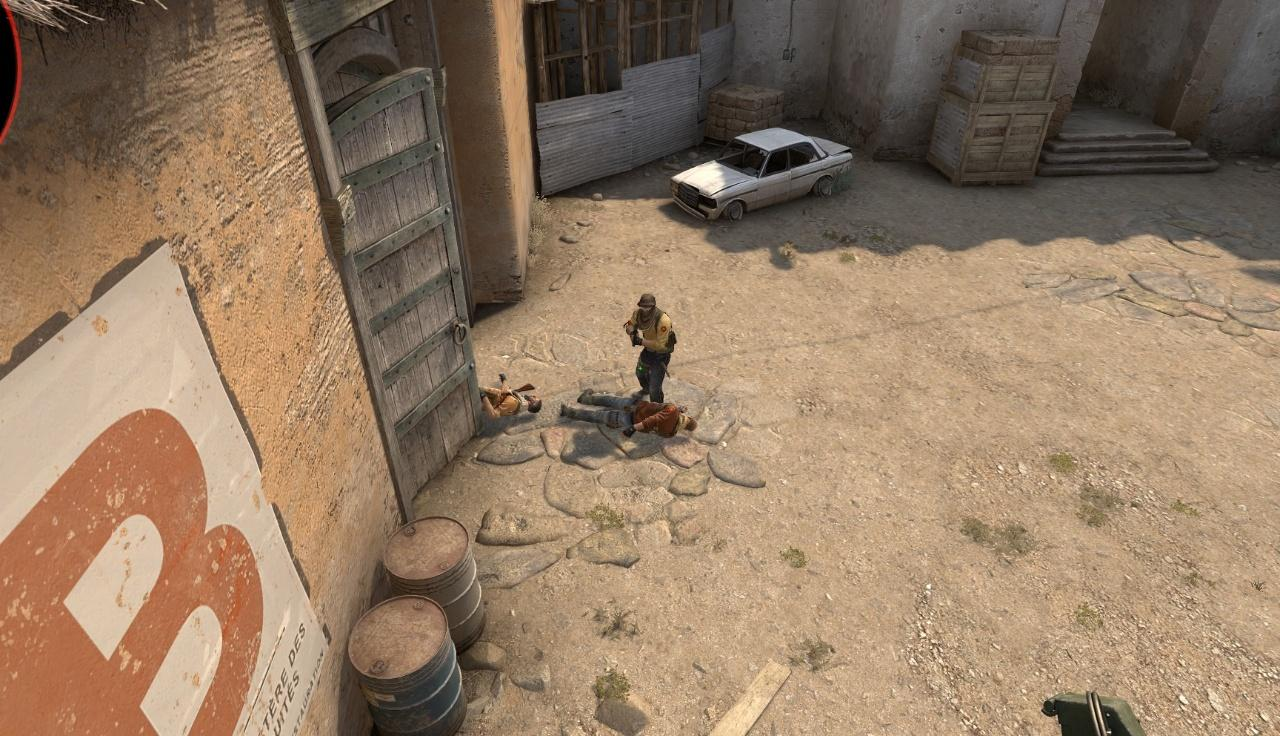tt: (626, 294, 675, 402)
tthead: (640, 295, 656, 318)
